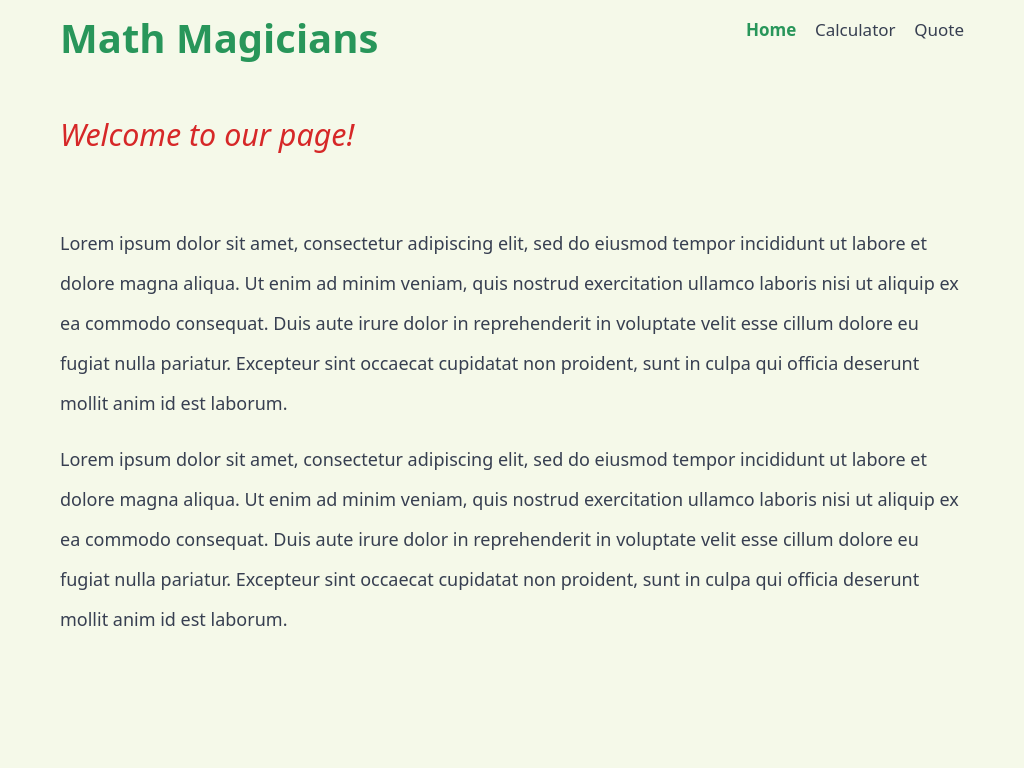
Click events › that user to redirected to the Quote page on clicking Quote
This screenshot has width=1024, height=768.
expect the text "Mathematics is not about numbers" is not shown: met
Click the link "Quote". click: (939, 30)
box: [914, 18, 964, 41]
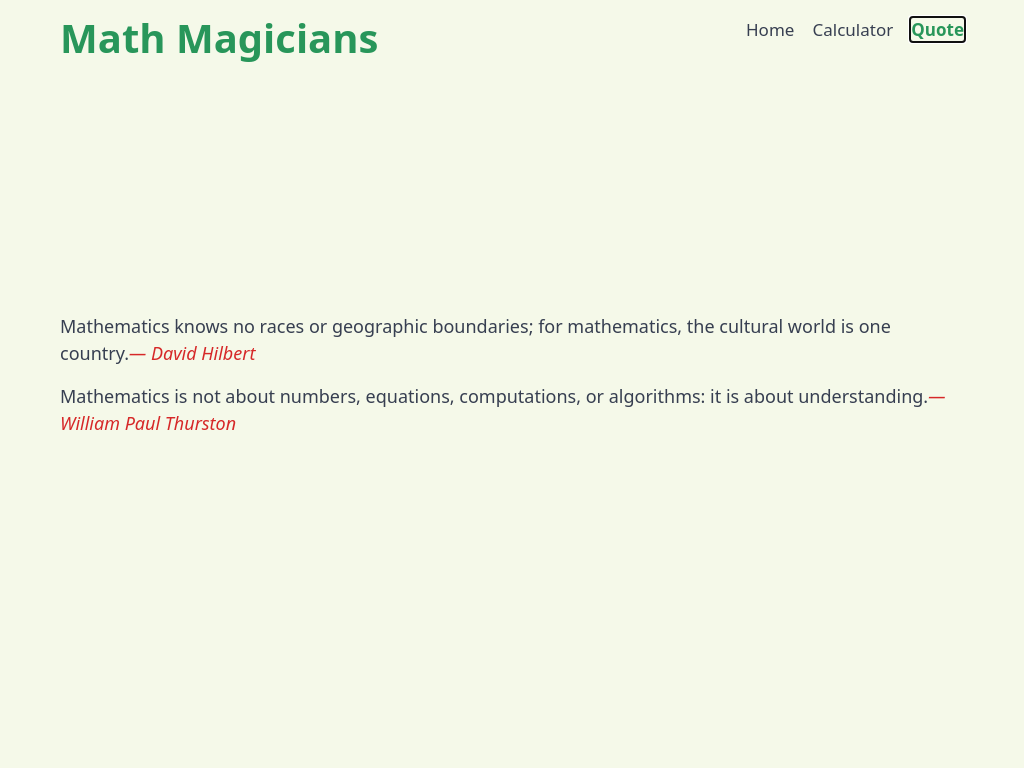
expect the text "Mathematics is not about numbers" is shown: met, box [60, 384, 928, 408]
